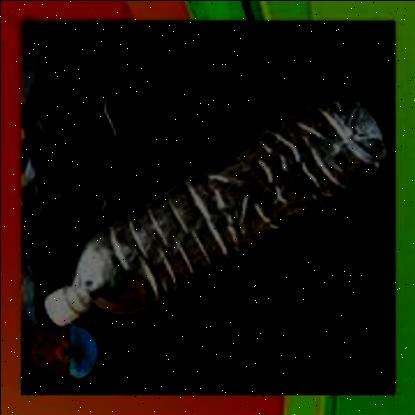Plastic Bottle: (42, 88, 390, 330)
